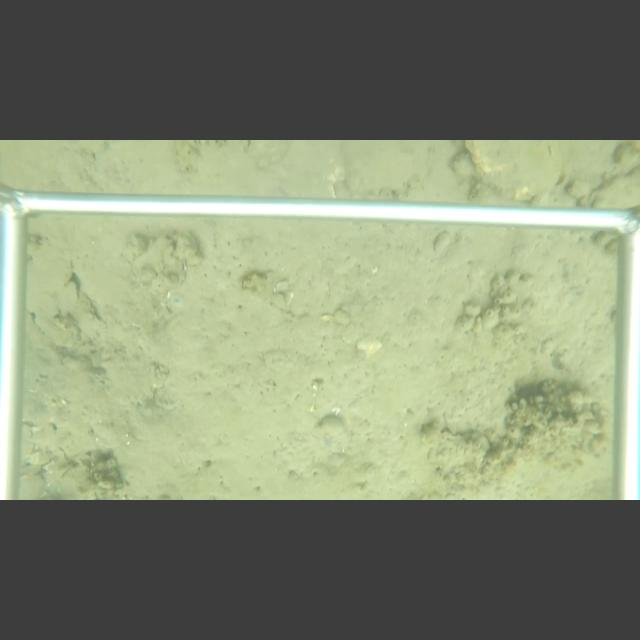Oyster-Closed: (122, 227, 207, 303), (60, 285, 108, 337)
